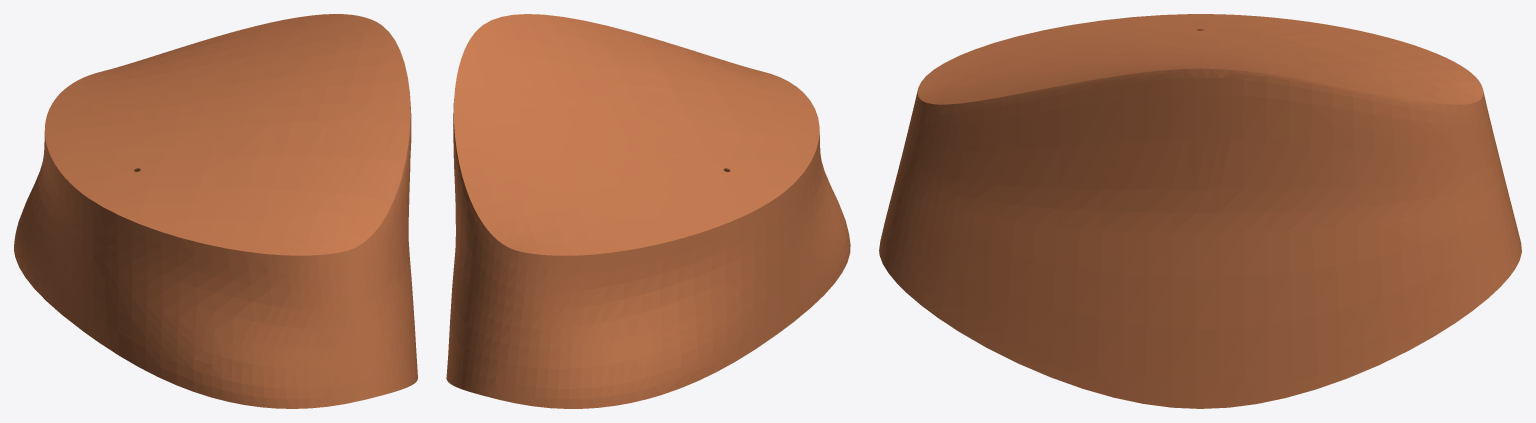
File: abdomen.dae
3 views of the same model, side by side, from view 1: azimuth 30°, elevation 25°; view 2: azimuth 150°, elevation 25°; view 3: azimuth 270°, elevation 25° (orthographic). The views are drawn at different scales.
Visible parts, largest first — view 1: polySurface1; view 2: polySurface1; view 3: polySurface1.
Boxes of the visible parts, x1=… form: polySurface1: x1=14, y1=14, x2=417, y2=408; polySurface1: x1=446, y1=14, x2=850, y2=408; polySurface1: x1=879, y1=14, x2=1521, y2=408.
Size of the model in its own units: 0.1689 by 0.1649 by 0.274.
